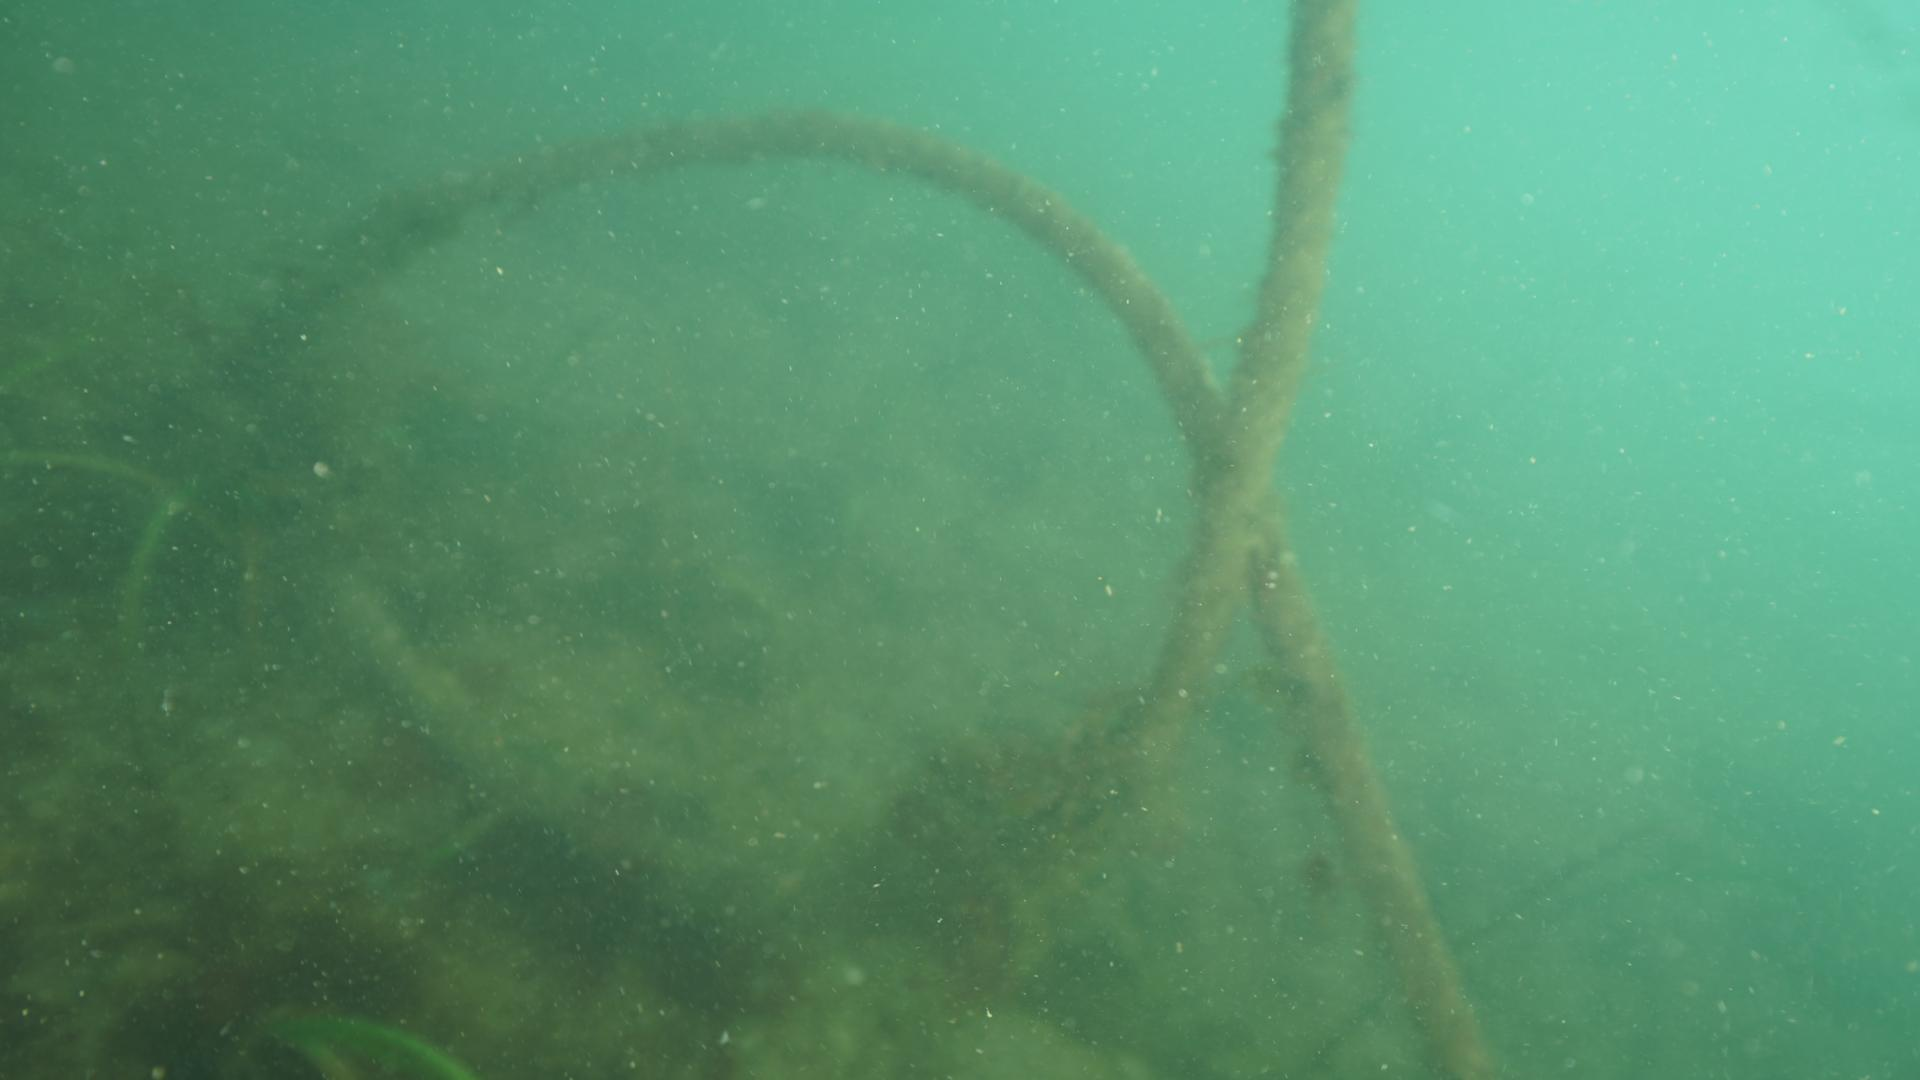bundle of ropes: (315, 0, 1495, 1080)
